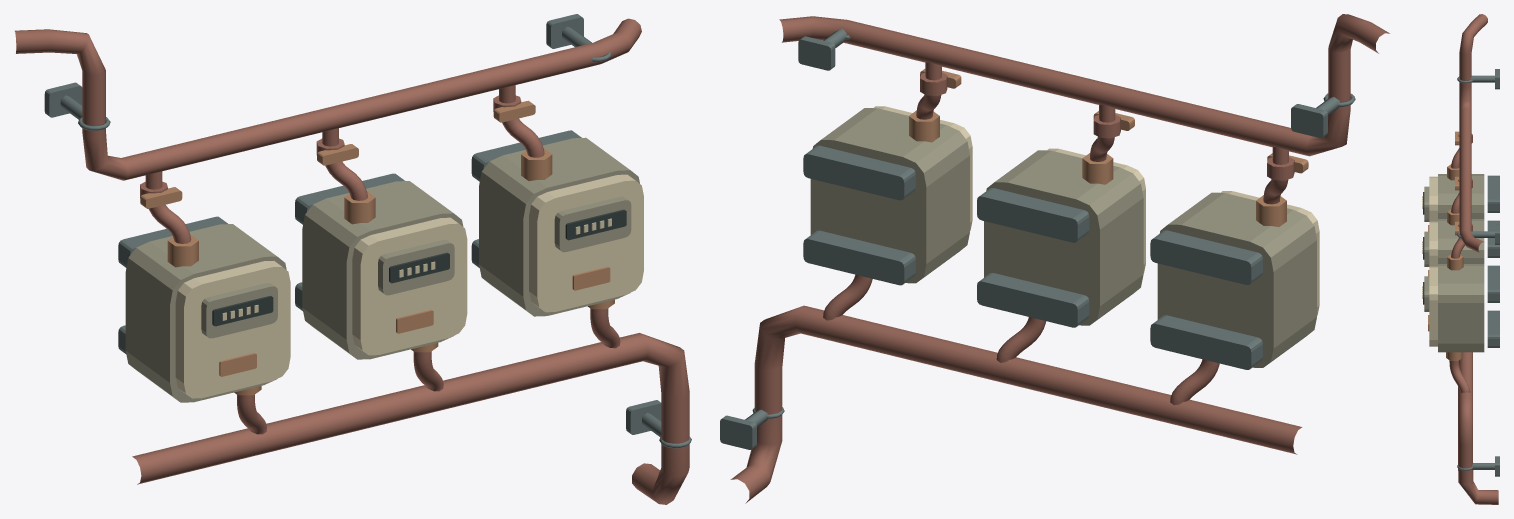
File: gas-meter-bank-v1.glb
3 views of the same model, side by side, from view 1: azimuth 30°, elevation 25°; view 2: azimuth 150°, elevation 25°; view 3: azimuth 270°, elevation 25° (orthographic). The views are drawn at different scales.
Parts seen in each view (by area): view 1: 벽붙이 도시가스 계량기 3연; view 2: 벽붙이 도시가스 계량기 3연; view 3: 벽붙이 도시가스 계량기 3연.
Boxes of the visible parts, x1=… form: 벽붙이 도시가스 계량기 3연: x1=15, y1=14, x2=691, y2=504; 벽붙이 도시가스 계량기 3연: x1=720, y1=14, x2=1389, y2=503; 벽붙이 도시가스 계량기 3연: x1=1422, y1=14, x2=1499, y2=504.
Size of the model in its own units: 1.17 by 1.05 by 0.2269.
